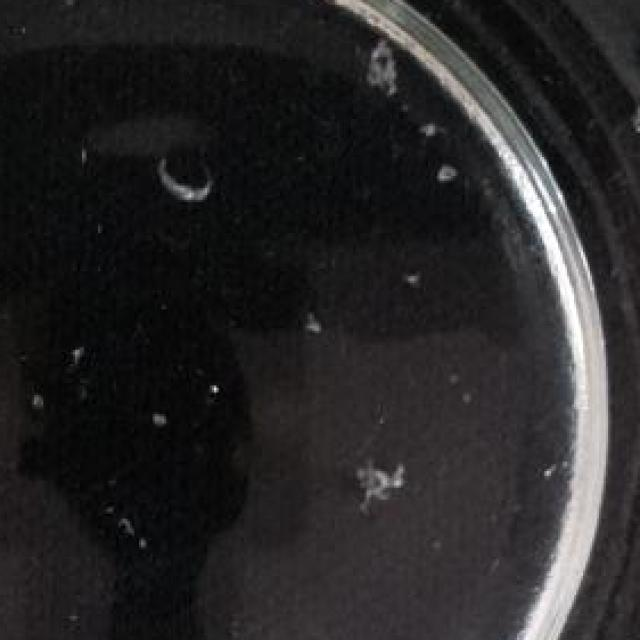Microplastic: (139, 145, 216, 224), (337, 448, 408, 524), (282, 300, 335, 357), (355, 43, 410, 97)
